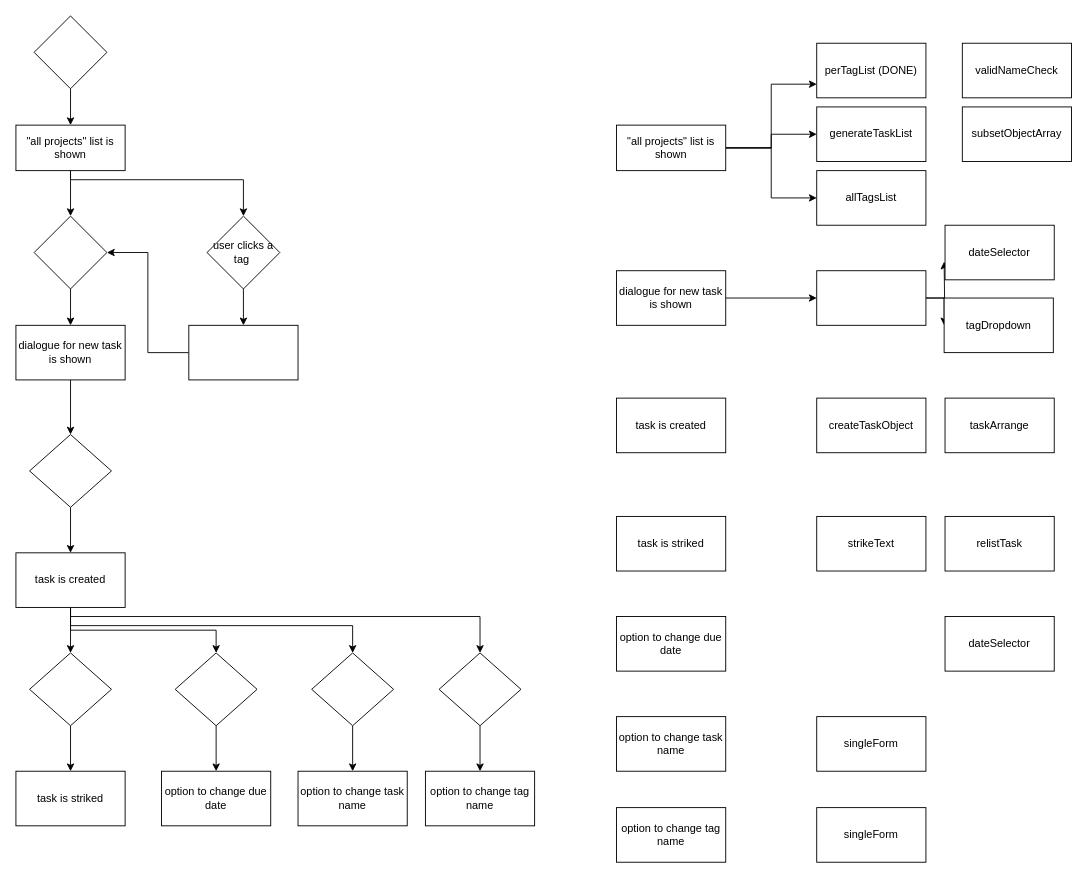
The diagram is 1087 pixels wide and 878 high, and some of its shapes have lost their labels. Each missing label, with the centre of its shape:
app starts: (x=70, y=52)
inputFormTask: (x=871, y=297)
selected tag list is shown: (x=243, y=352)
user clicks "new task" button: (x=70, y=252)
user clicks due date: (x=215, y=689)
user clicks tag name: (x=479, y=689)
user clicks task check: (x=70, y=689)
user clicks task name: (x=352, y=689)
user inputs name, due date, and tag: (x=70, y=470)
